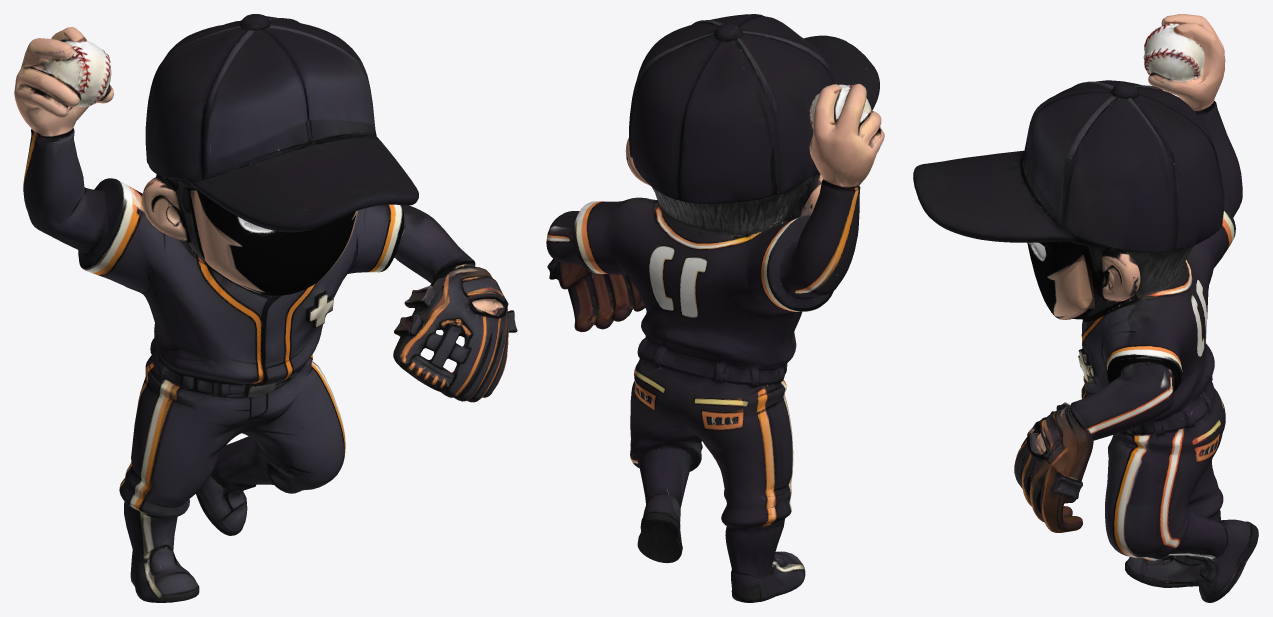
File: sd_pitcher.glb
3 renders of one model, left to right at view 1: azimuth 30°, elevation 25°; view 2: azimuth 150°, elevation 25°; view 3: azimuth 270°, elevation 25°, orthographic. The views are drawn at different scales.
Visible parts, largest first — view 1: Mesh_0; view 2: Mesh_0; view 3: Mesh_0.
Boxes of the visible parts, x1=… form: Mesh_0: x1=14, y1=14, x2=517, y2=602; Mesh_0: x1=546, y1=14, x2=884, y2=602; Mesh_0: x1=913, y1=14, x2=1258, y2=602.
Bounding box in the file's own units: 1.46 × 1.91 × 1.15.
1 material, 1 textured.
